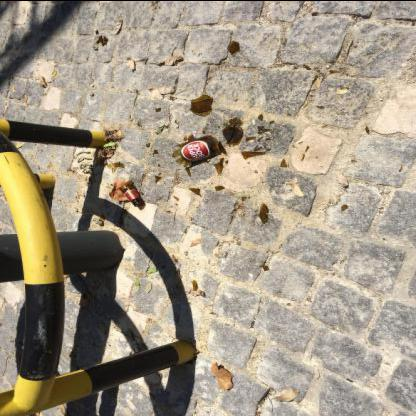Bottle cap: (172, 134, 220, 162), (117, 180, 143, 206)
Broken glass: (222, 124, 243, 146), (190, 94, 214, 112), (240, 150, 266, 158), (258, 201, 267, 223), (213, 156, 223, 174), (227, 40, 239, 54), (224, 116, 242, 125), (186, 187, 198, 196), (107, 162, 124, 168), (95, 34, 103, 43), (215, 184, 226, 190), (191, 279, 197, 290), (188, 132, 196, 140), (280, 158, 288, 166), (253, 144, 262, 150), (185, 167, 191, 175), (262, 264, 270, 270), (257, 125, 265, 131), (341, 204, 347, 211), (174, 194, 180, 200), (245, 136, 254, 140), (260, 128, 272, 131), (303, 63, 309, 69), (103, 36, 109, 42), (301, 152, 305, 160), (366, 125, 370, 133), (398, 164, 402, 172), (258, 113, 262, 120), (154, 108, 160, 112), (156, 175, 160, 181), (269, 119, 275, 123), (264, 136, 270, 140), (316, 104, 324, 107), (184, 134, 188, 140), (102, 41, 108, 45), (306, 145, 310, 150), (94, 30, 99, 34), (154, 149, 158, 153), (258, 136, 262, 140), (146, 142, 150, 146), (242, 196, 247, 199), (263, 142, 266, 147), (291, 146, 298, 148), (258, 131, 264, 133), (254, 169, 258, 172), (330, 70, 336, 72), (266, 148, 272, 150), (298, 141, 302, 144), (225, 160, 228, 163), (202, 130, 205, 133), (152, 152, 154, 156)
Cigarette: (3, 105, 7, 113)
